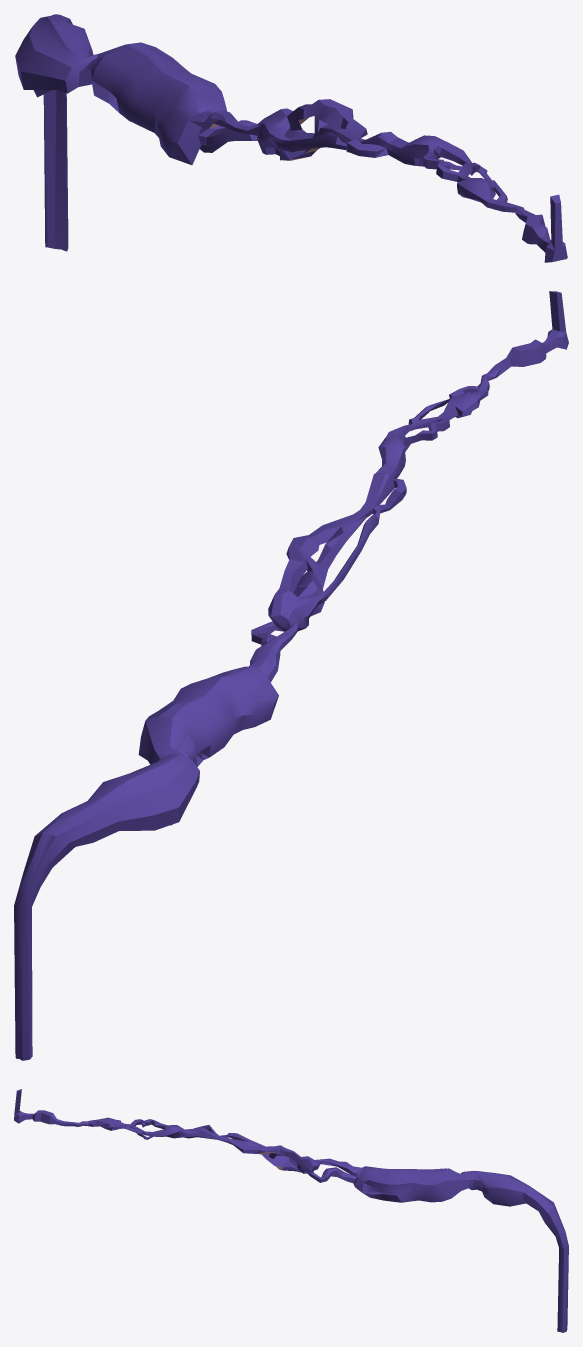
Rendered from Tunnel_4.fbx.
3 renders of one model, top to bottom at view 1: azimuth 30°, elevation 25°; view 2: azimuth 150°, elevation 25°; view 3: azimuth 270°, elevation 25°, orthographic. The views are drawn at different scales.
Visible parts, largest first — view 1: Tunnel_4; view 2: Tunnel_4; view 3: Tunnel_4.
Boxes of the visible parts, x1=… form: Tunnel_4: x1=15, y1=14, x2=567, y2=262; Tunnel_4: x1=14, y1=291, x2=568, y2=1060; Tunnel_4: x1=14, y1=1089, x2=568, y2=1332.
Bounding box in the file's own units: 13322 × 51643 × 112854.
